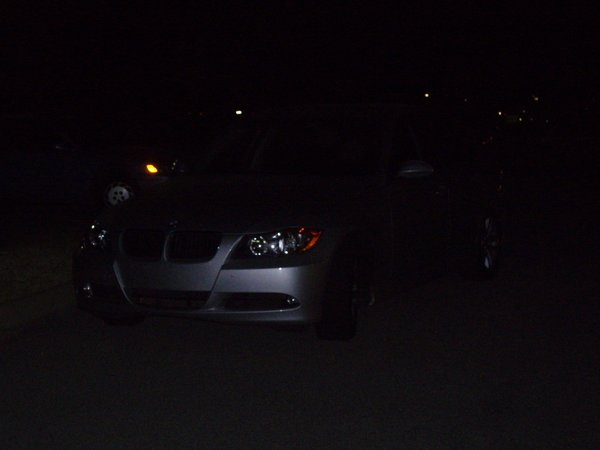car: (66, 98, 518, 353)
